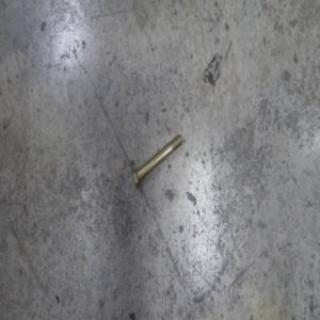Bolttrack_idkeyframe: (129, 130, 183, 191)
